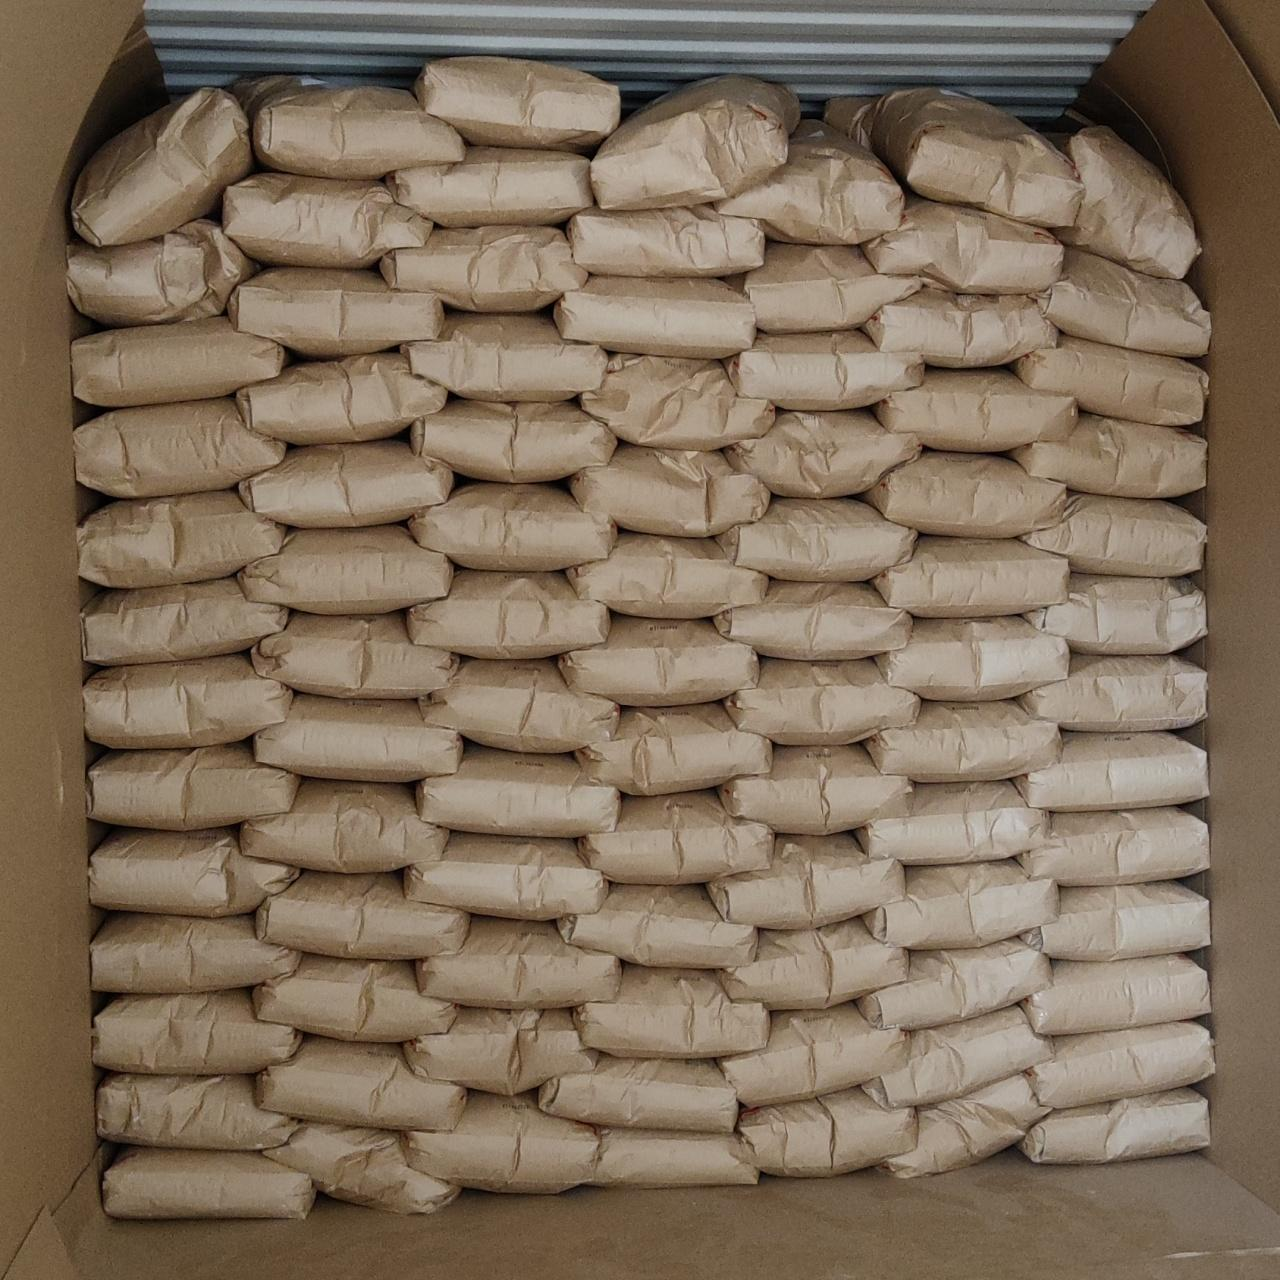sack: (824, 88, 1078, 224), (72, 90, 254, 244), (594, 76, 798, 206), (232, 76, 462, 174), (718, 122, 902, 242), (1054, 126, 1198, 278), (66, 220, 258, 326), (76, 398, 286, 494), (78, 490, 286, 584), (236, 352, 446, 444), (224, 172, 430, 264), (74, 318, 288, 406), (230, 268, 444, 356), (1034, 248, 1208, 356), (258, 1036, 462, 1128), (84, 656, 292, 746), (408, 1092, 598, 1190), (864, 198, 1062, 292), (416, 58, 618, 150), (240, 440, 454, 526), (720, 1002, 904, 1102), (242, 780, 446, 870), (90, 742, 298, 830), (240, 526, 452, 612), (256, 872, 466, 958), (422, 658, 618, 750), (418, 746, 618, 836), (418, 918, 620, 1006), (710, 834, 902, 926), (570, 444, 766, 534), (866, 1008, 1052, 1102), (582, 354, 772, 446), (256, 696, 462, 780), (380, 226, 586, 310), (578, 704, 770, 794), (264, 1124, 460, 1212), (406, 832, 606, 918), (90, 828, 294, 912), (402, 314, 606, 398), (576, 964, 766, 1054), (560, 616, 758, 702), (84, 578, 286, 662), (254, 954, 454, 1038), (410, 484, 614, 566), (252, 612, 456, 694), (864, 860, 1054, 948), (860, 940, 1050, 1028), (1012, 336, 1206, 422), (408, 570, 606, 654), (94, 990, 300, 1070), (582, 792, 772, 878), (864, 452, 1062, 534), (718, 498, 916, 580), (558, 884, 756, 966), (568, 532, 766, 614), (412, 398, 614, 478), (726, 658, 918, 742), (726, 410, 918, 494), (882, 1076, 1046, 1174), (876, 370, 1076, 450), (740, 244, 926, 330), (406, 1008, 596, 1092), (720, 746, 910, 830), (556, 276, 754, 356), (1030, 1022, 1214, 1108), (92, 914, 300, 990), (388, 146, 590, 224), (1008, 414, 1204, 494), (722, 920, 904, 1006), (876, 618, 1068, 698), (726, 330, 924, 406), (858, 782, 1046, 862), (866, 702, 1058, 780), (714, 582, 910, 658), (1016, 732, 1206, 810), (866, 288, 1056, 366), (738, 1090, 914, 1174), (874, 538, 1068, 614), (1022, 494, 1204, 574), (98, 1074, 294, 1148), (104, 1148, 314, 1216), (1024, 574, 1206, 652), (1020, 654, 1206, 730), (1020, 808, 1206, 884), (1022, 882, 1208, 958), (1024, 956, 1210, 1032), (568, 206, 764, 276), (540, 1056, 736, 1126), (1020, 1090, 1206, 1162), (588, 1128, 758, 1186)
